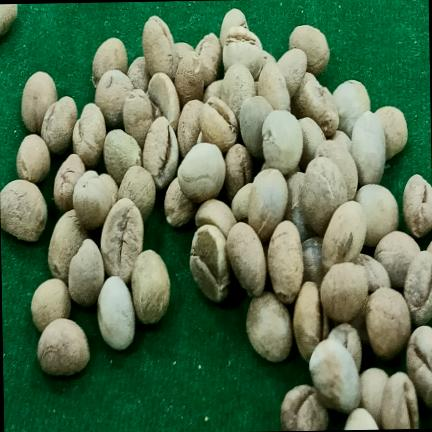cut: (300, 156, 348, 236), (309, 338, 360, 413), (100, 197, 143, 283), (189, 224, 232, 301), (246, 291, 292, 362), (365, 288, 410, 360), (48, 209, 91, 284), (322, 200, 366, 272), (291, 72, 338, 137), (267, 220, 303, 304), (37, 318, 89, 375), (226, 222, 266, 296), (177, 142, 225, 203), (320, 262, 368, 323), (131, 249, 170, 324), (293, 281, 329, 362), (0, 179, 47, 241), (248, 168, 287, 242), (314, 133, 357, 199), (354, 183, 398, 247), (97, 276, 135, 350), (261, 110, 303, 174), (142, 116, 178, 190), (142, 116, 178, 189), (374, 231, 420, 288), (351, 111, 385, 185), (68, 238, 104, 307), (73, 170, 112, 229), (94, 69, 133, 128), (142, 15, 177, 80), (21, 71, 57, 134), (280, 384, 328, 431), (72, 103, 106, 169), (116, 165, 155, 222), (103, 129, 142, 185), (403, 251, 432, 326), (200, 96, 238, 153), (332, 80, 370, 137), (406, 325, 432, 408), (200, 96, 238, 152), (222, 25, 262, 78), (381, 372, 418, 429), (31, 278, 70, 332), (285, 171, 315, 241), (41, 96, 77, 154), (220, 143, 253, 206), (220, 63, 256, 120), (239, 95, 272, 157), (289, 25, 329, 76), (147, 72, 180, 132), (53, 153, 85, 213), (122, 88, 153, 149), (403, 174, 432, 237), (92, 37, 127, 87), (375, 106, 407, 160), (359, 367, 388, 426), (174, 51, 204, 108), (164, 177, 198, 227), (16, 134, 50, 183), (328, 323, 362, 371), (258, 61, 290, 111), (195, 198, 236, 237), (177, 99, 203, 158), (298, 116, 325, 171), (354, 253, 391, 293), (277, 48, 307, 97), (195, 32, 221, 86), (301, 236, 325, 287), (219, 8, 248, 48), (127, 56, 151, 92), (231, 182, 252, 222), (344, 408, 379, 430), (99, 173, 118, 208), (330, 130, 351, 152), (202, 79, 222, 102), (174, 42, 194, 64)
